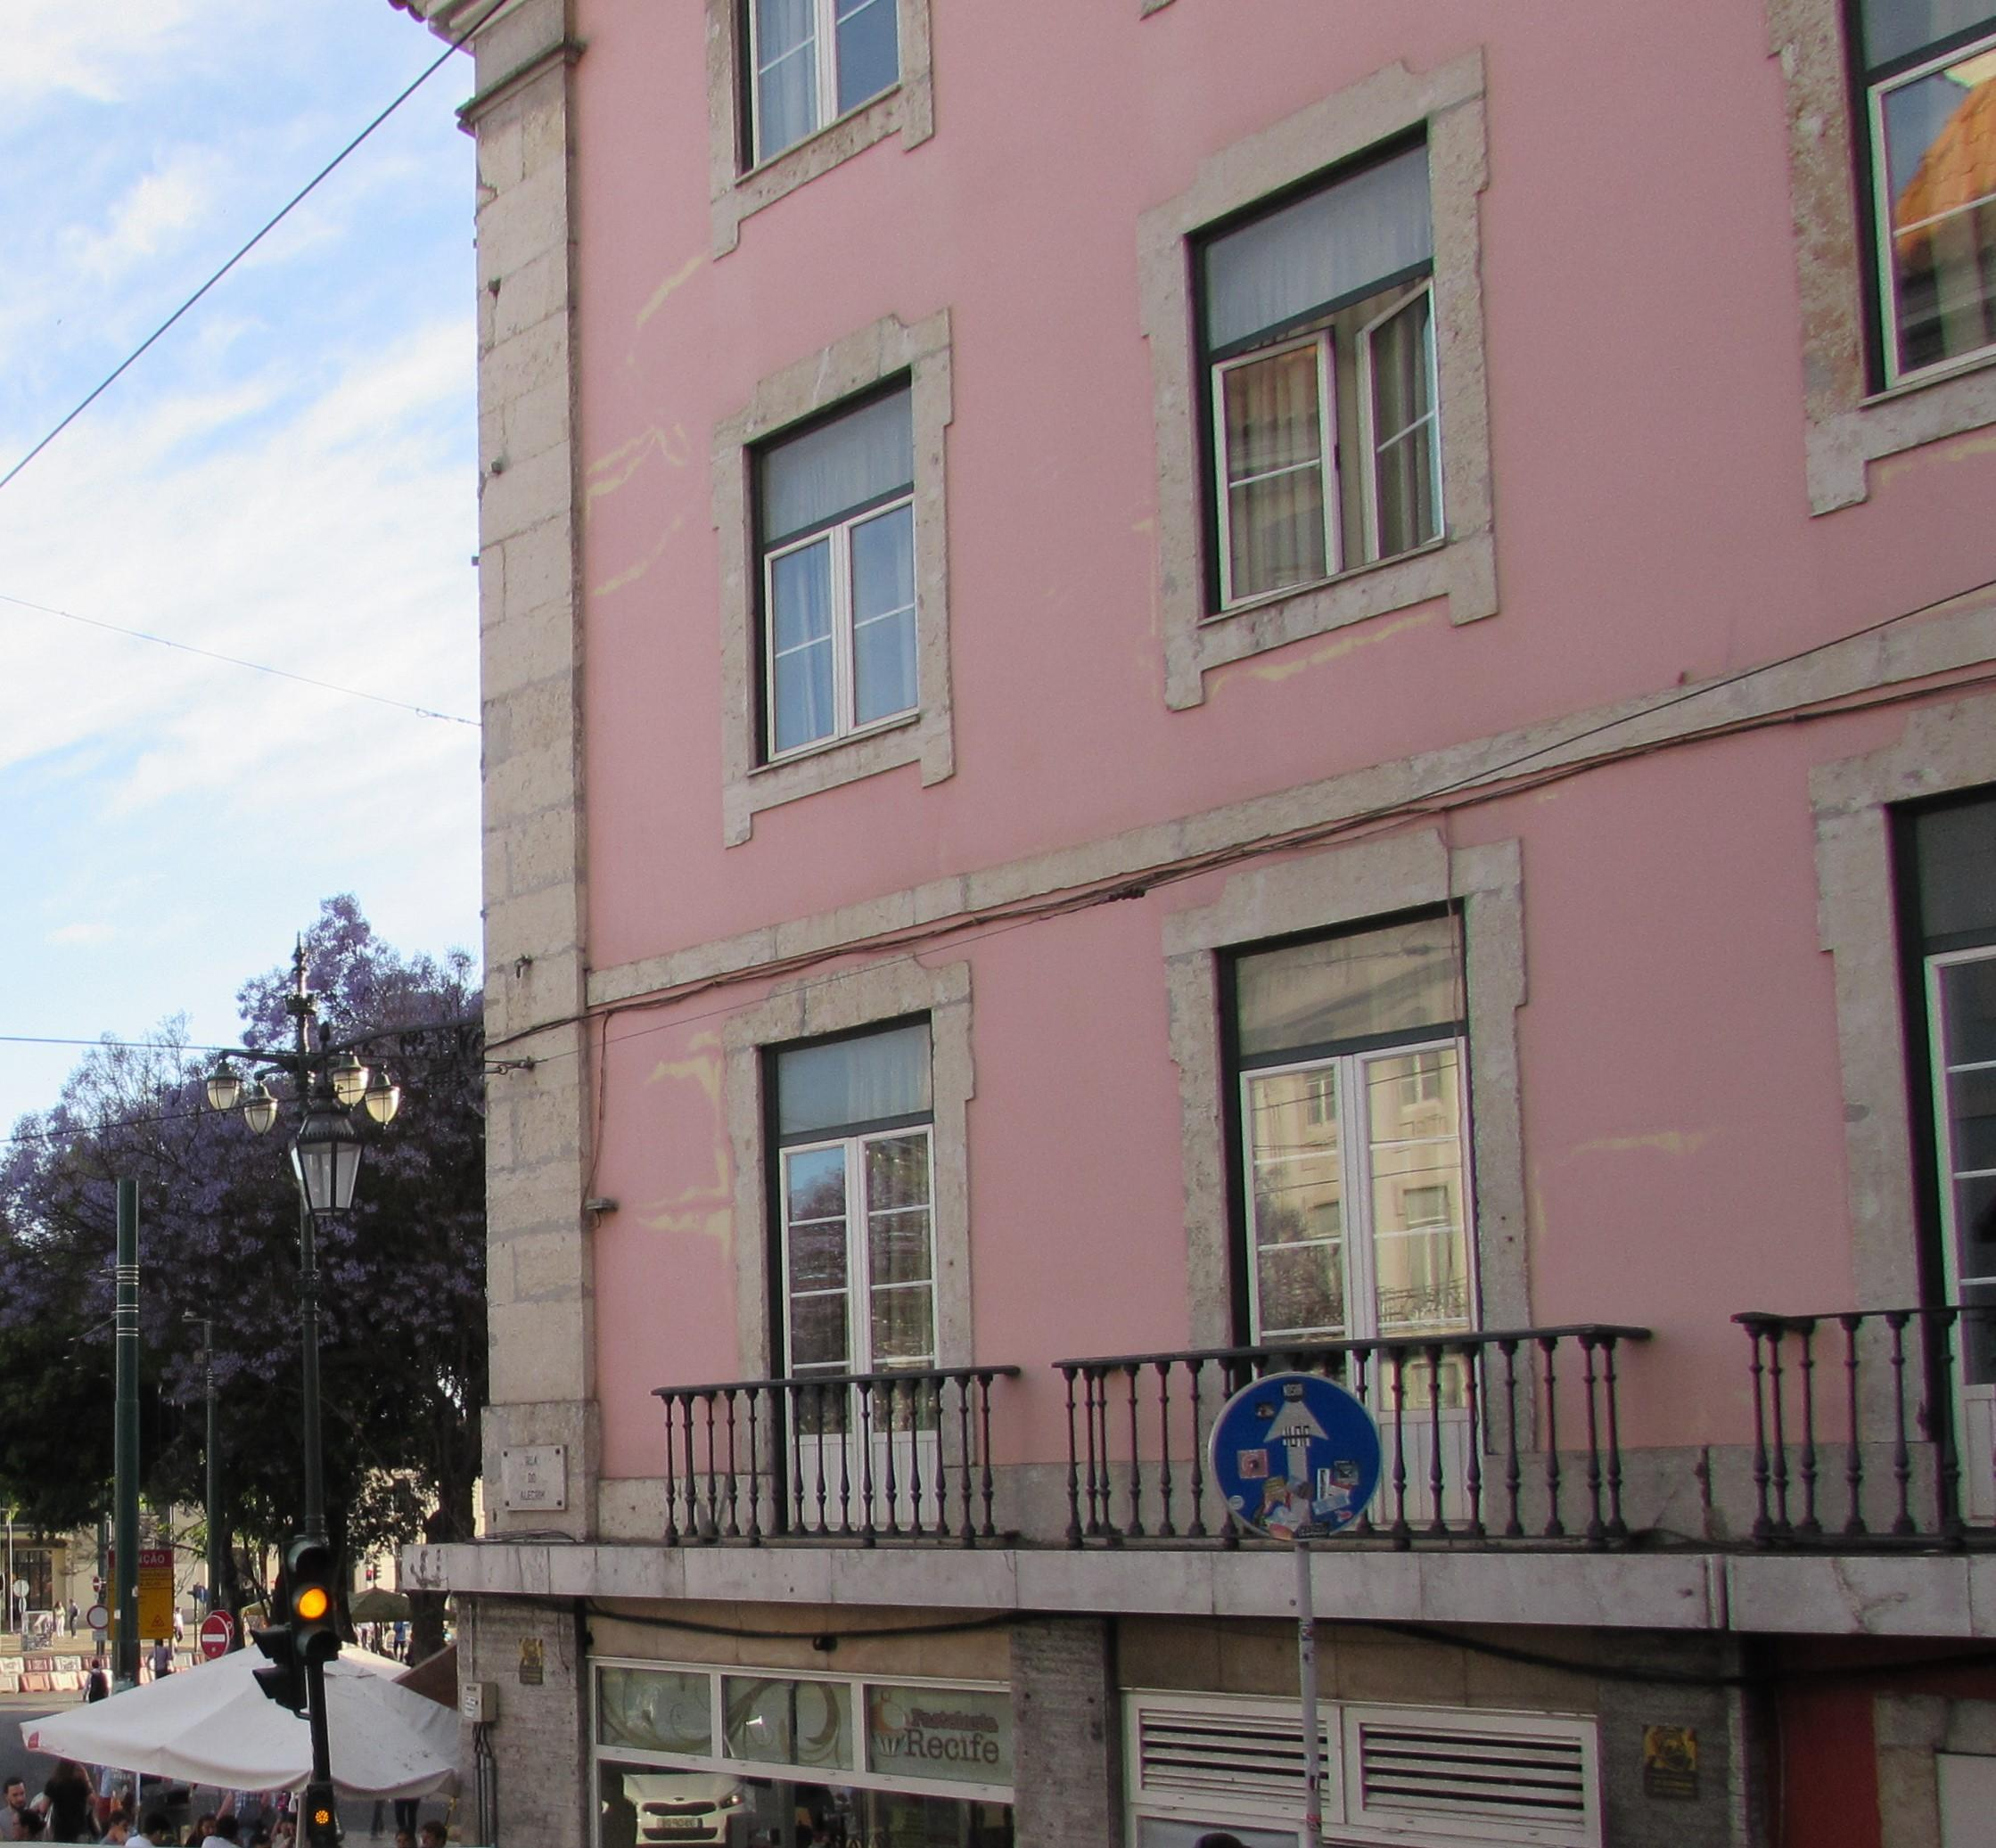yellow_light: (280, 1539, 343, 1664), (308, 1780, 336, 1848)
